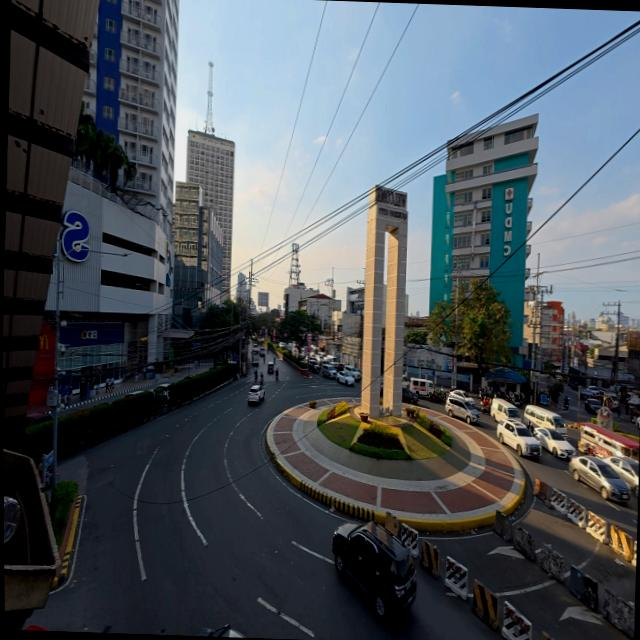Jeepneys: (577, 424, 638, 460)
car: (332, 522, 415, 620), (567, 456, 630, 502), (497, 420, 539, 457), (604, 457, 638, 498), (530, 427, 573, 459), (444, 395, 478, 424), (197, 625, 243, 637), (448, 390, 475, 406), (25, 412, 51, 426), (150, 383, 169, 401), (247, 385, 264, 404), (343, 365, 361, 381), (603, 393, 619, 411), (335, 371, 353, 386), (401, 387, 416, 405), (584, 399, 600, 414), (320, 364, 336, 379), (121, 390, 143, 399), (586, 385, 600, 397), (308, 360, 319, 372), (267, 362, 274, 374), (335, 363, 343, 372), (634, 417, 639, 429)
motorcycle: (481, 396, 490, 413), (564, 398, 568, 410), (275, 369, 278, 380), (259, 374, 262, 385)
vans: (524, 405, 566, 436), (490, 397, 519, 422), (409, 378, 432, 397)
